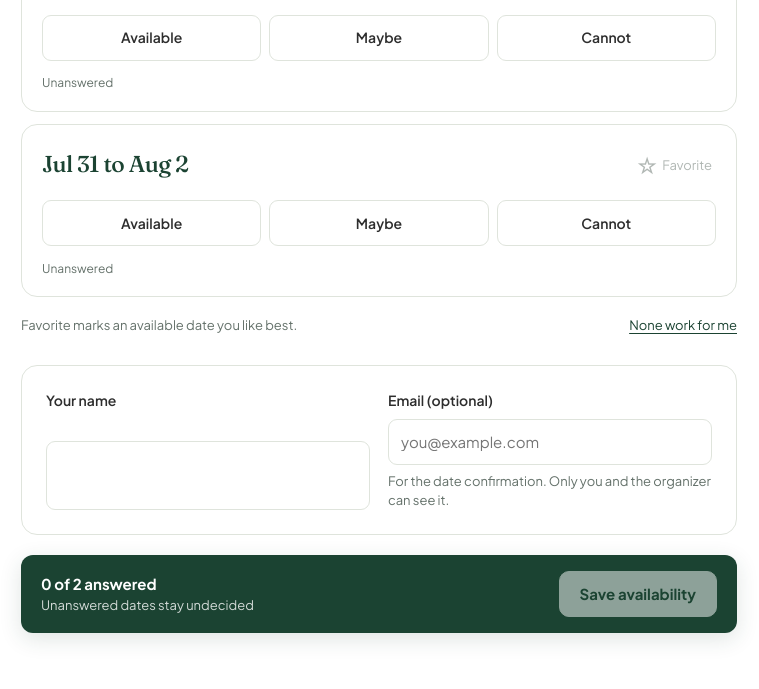
Test case: JoinFlow › includes a typed email address in the request body without blocking on name alone
This screenshot has width=759, height=689.
(page scrolled)
Expected: the field labelled "Email (optional)" is shown, [388, 419, 712, 465]
Type "Alex" into the field labelled "Your name" at (208, 476), box [46, 442, 370, 510]
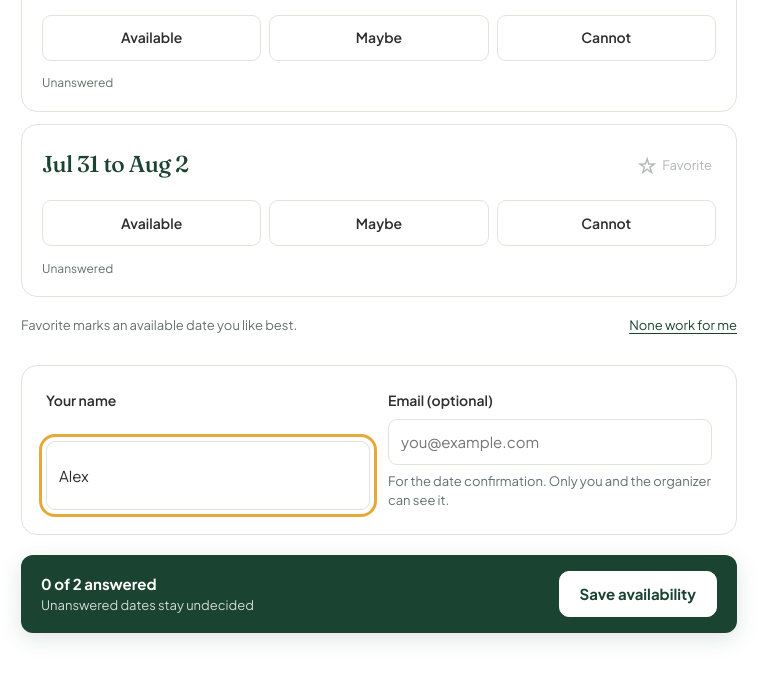
Type "alex@example.com" into the field labelled "Email (optional)" at (550, 442), box [388, 419, 712, 465]
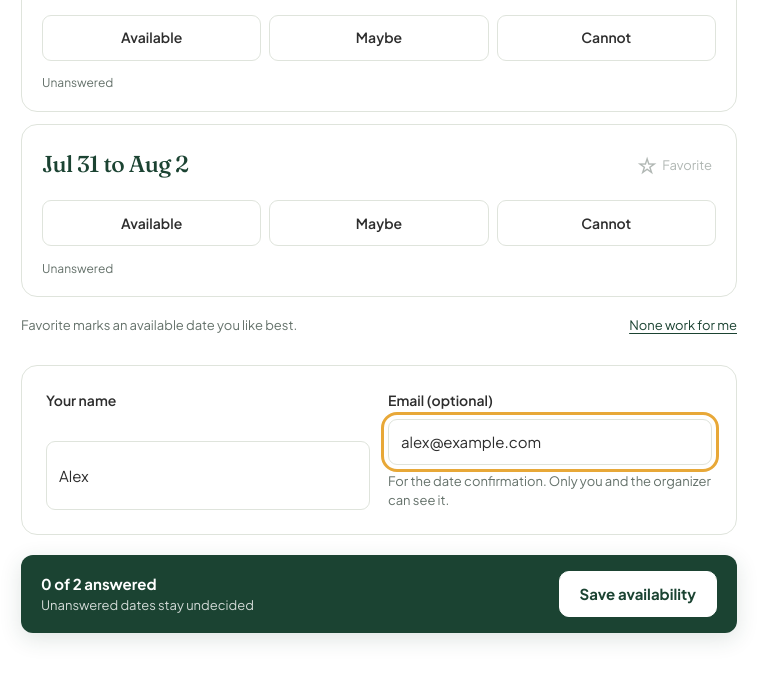
Click the button "Save availability" at (638, 594), box [558, 571, 717, 617]
(page scrolled)
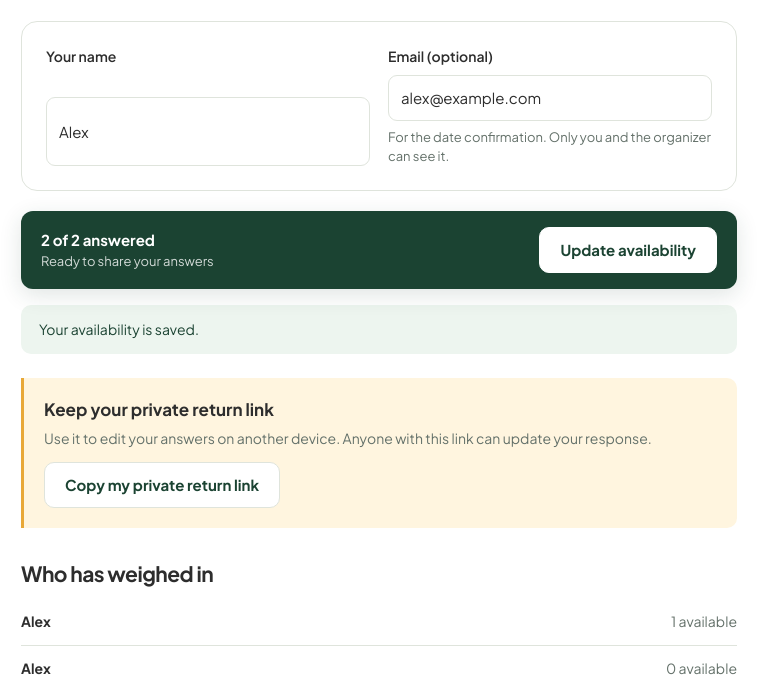
Expected: the text "Your availability is saved." is shown, [21, 305, 737, 354]
